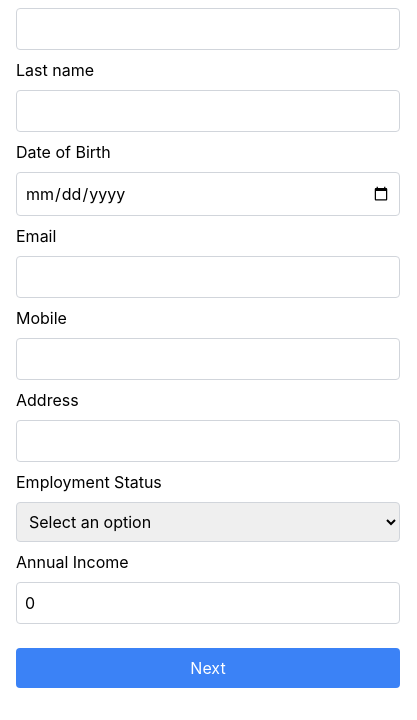
Test: Personal Details Form › should show validation errors for empty required fields
(page scrolled)
// Submit the form without filling in any fields
What coordinates should you click on to do the following:
click the submit button
I would click on:
 (208, 668)
Its box is [16,648,400,688].
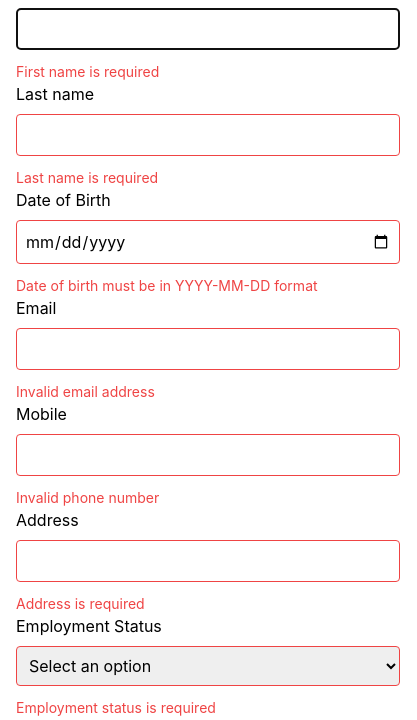
Expected: the text "First name is required" is shown, [16,63,159,80]
Expected: the text "Last name is required" is shown, [16,169,158,186]
Expected: the text "Date of birth must be in YYYY-MM-DD format" is shown, [16,277,318,294]
